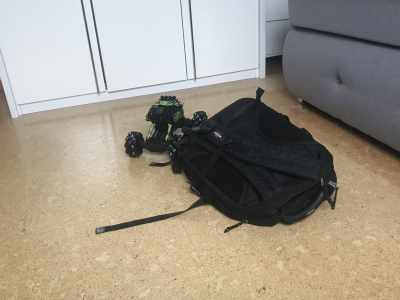remote control car: (123, 91, 208, 162)
